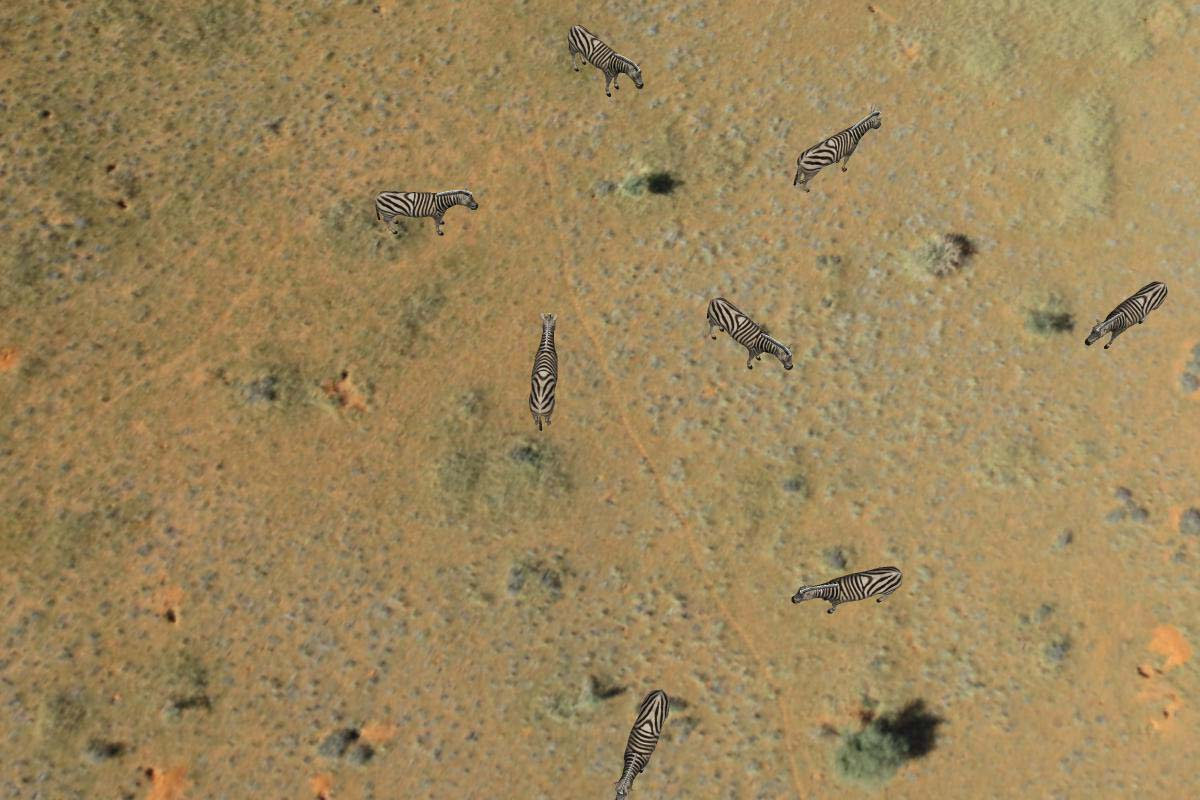zebra: (794, 104, 886, 200), (702, 294, 794, 385), (563, 15, 653, 106), (613, 675, 677, 800), (780, 560, 919, 615), (1086, 262, 1169, 352), (371, 179, 484, 238), (525, 296, 567, 437)
